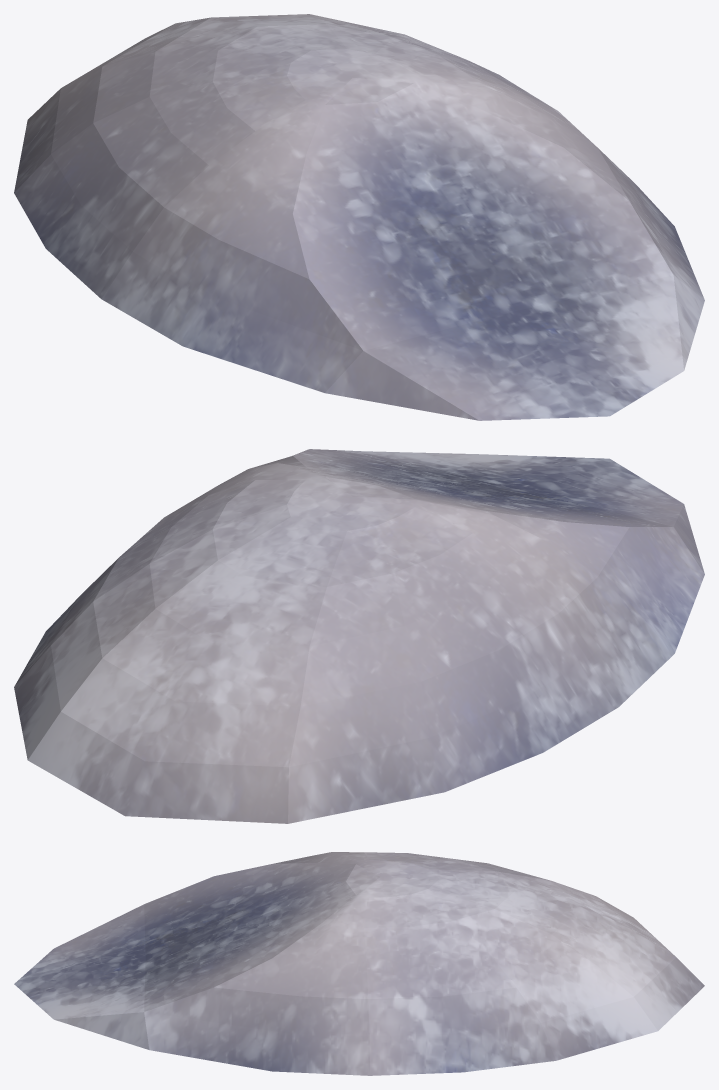
File: dunes_snow_right.fbx
The picture shows the model from 3 angles, top to bottom: view 1: azimuth 30°, elevation 25°; view 2: azimuth 150°, elevation 25°; view 3: azimuth 270°, elevation 25°; orthographic projection. The views are drawn at different scales.
Visible parts, largest first — view 1: dunes_snow_right; view 2: dunes_snow_right; view 3: dunes_snow_right.
Part boxes in pixels (x1=…): dunes_snow_right: x1=14, y1=14, x2=704, y2=420; dunes_snow_right: x1=14, y1=449, x2=704, y2=823; dunes_snow_right: x1=14, y1=852, x2=704, y2=1075.
Bounding box in the file's own units: 1109 × 313 × 1800.
